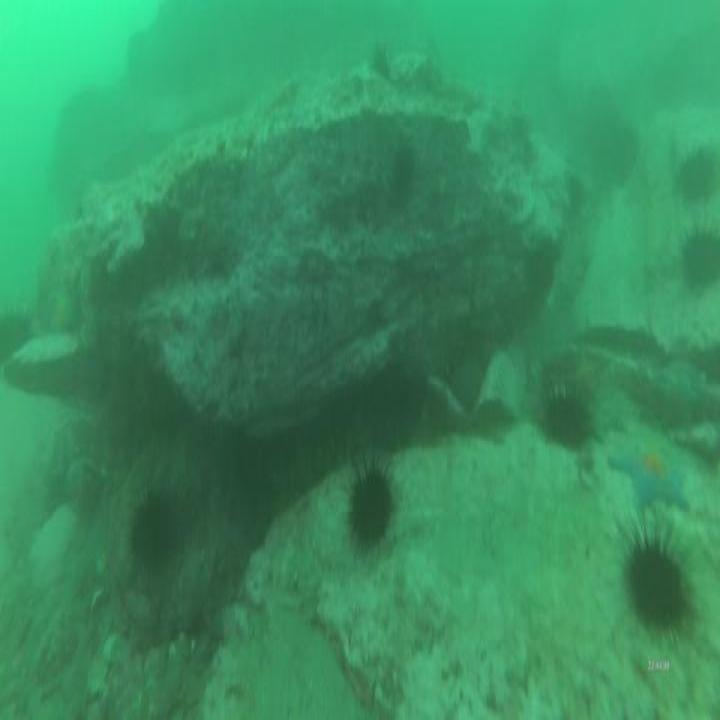echinus: (620, 510, 691, 646), (125, 480, 183, 571), (344, 457, 398, 553), (544, 379, 590, 462), (672, 137, 720, 211), (605, 116, 643, 192), (683, 222, 720, 299), (389, 142, 417, 199), (368, 41, 393, 83)
starfish: (607, 439, 697, 517)
